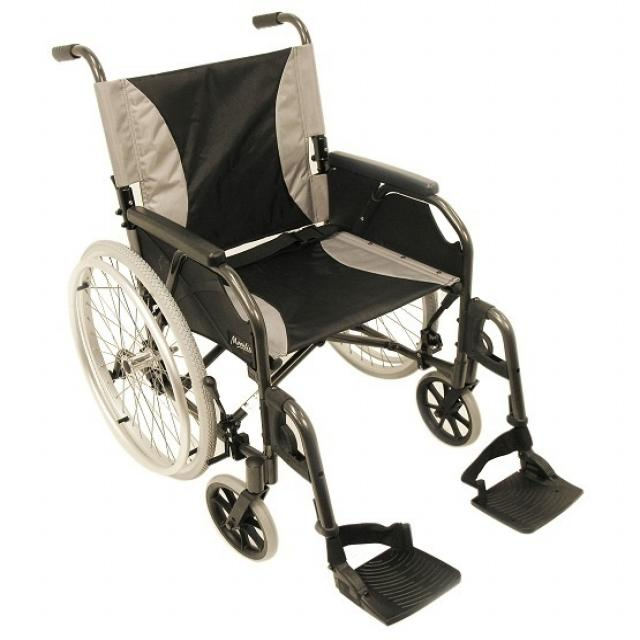wheelchair: (45, 7, 598, 633)
